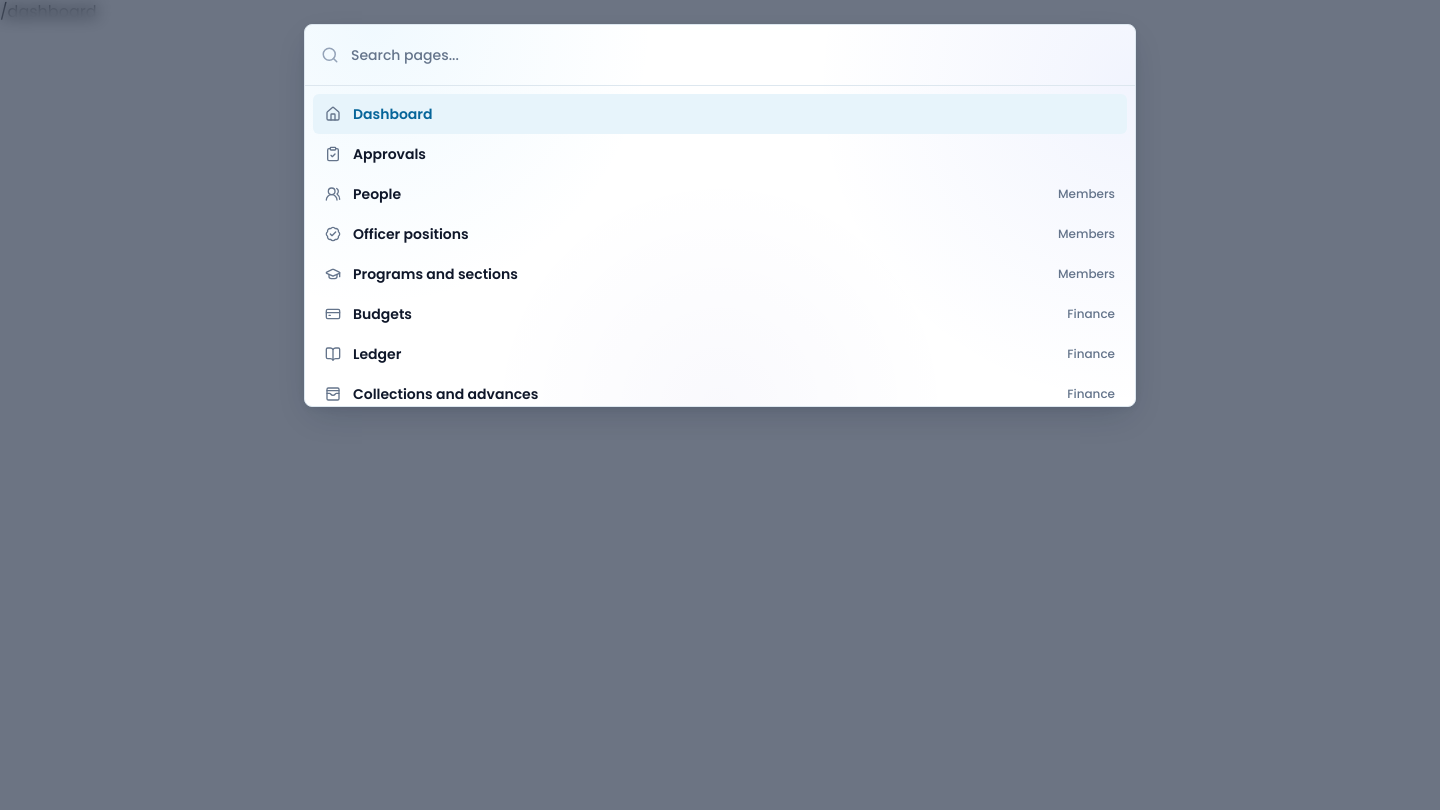
Test: CommandPalette › finds ADMIN page by its old name Validate Tokens and shows the new label Claim desk
Type "Validate Tokens" into the dropdown labelled "Search pages" at (735, 55), box [351,37,1119,73]
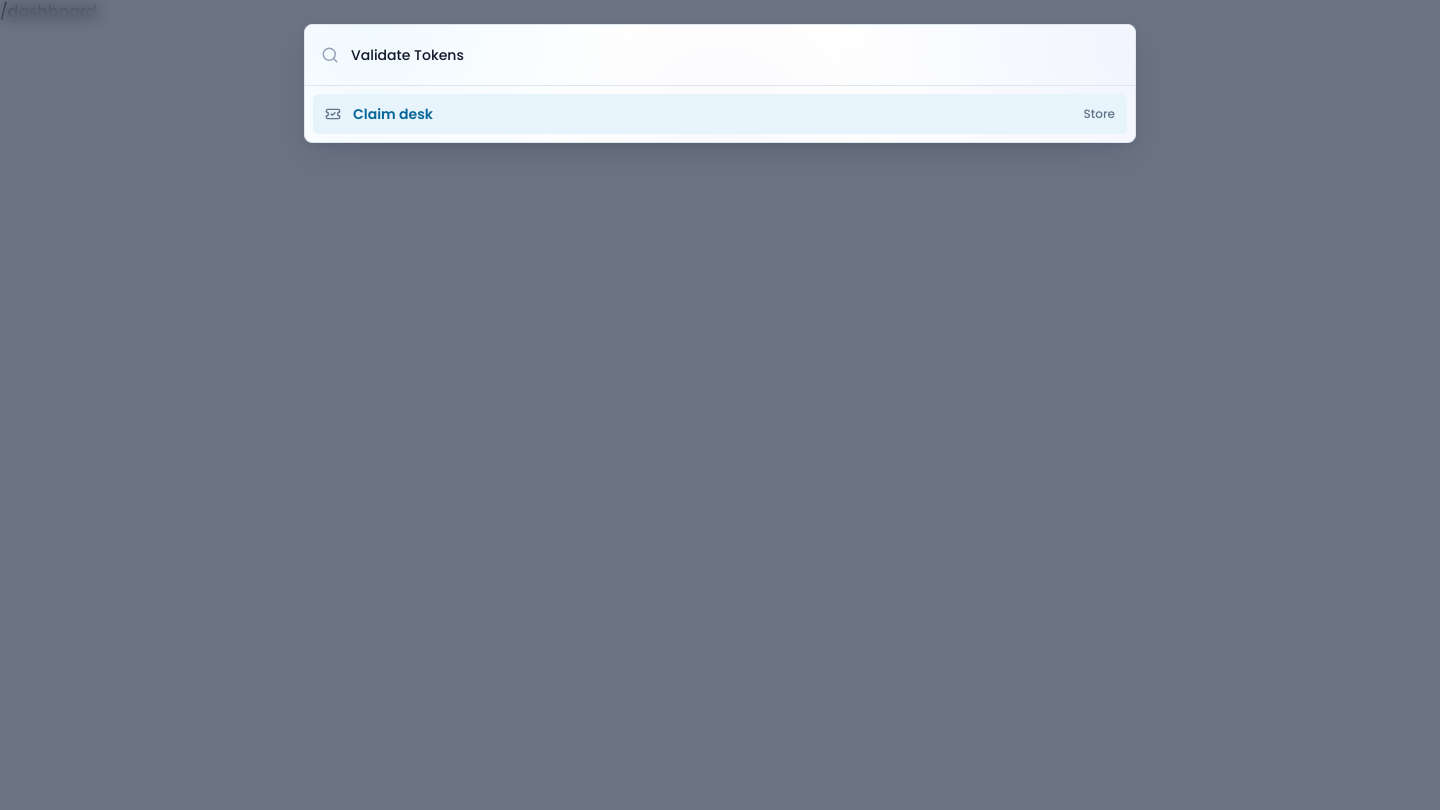
Check: the option shows "Claim desk", box [313,94,1127,134]
Press Enter in the dropdown named "Search pages", box [351,37,1119,73]
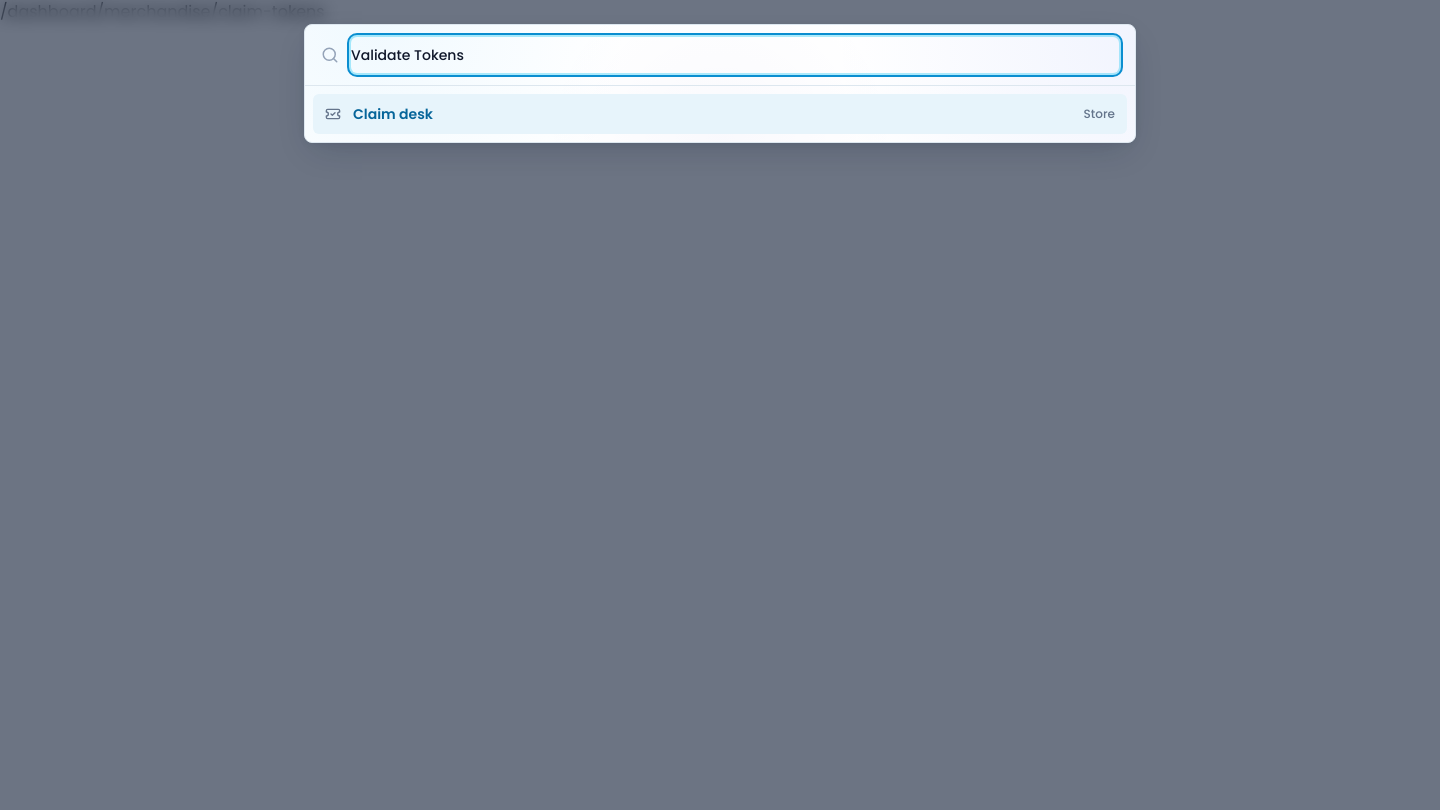
Check: the text with test id "path" reads "/dashboard/merchandise/claim-tokens", box [0,0,325,23]
